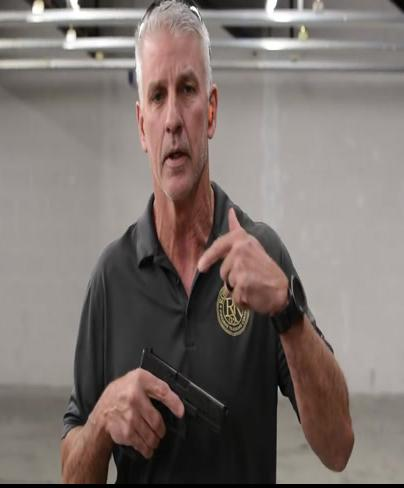pistol: (125, 348, 227, 452)
